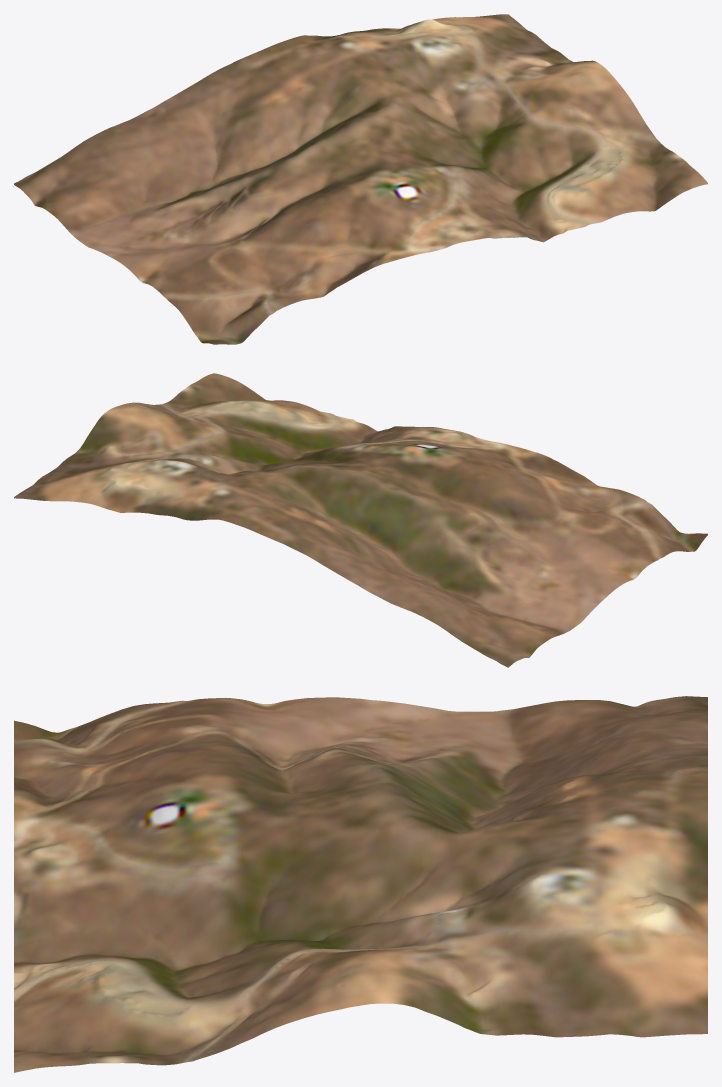
The model's file is terrain_r1_c3.glb.
The picture shows the model from 3 angles, top to bottom: view 1: azimuth 30°, elevation 25°; view 2: azimuth 150°, elevation 25°; view 3: azimuth 270°, elevation 25°; orthographic projection. The views are drawn at different scales.
Visible parts, largest first — view 1: terrain_r1_c3_lod0; view 2: terrain_r1_c3_lod0; view 3: terrain_r1_c3_lod0.
Part boxes in pixels (<box>): terrain_r1_c3_lod0: <box>14,14,707,344</box>; terrain_r1_c3_lod0: <box>14,373,707,667</box>; terrain_r1_c3_lod0: <box>14,696,707,1072</box>.
Size of the model in its own units: 1125 by 223 by 787.
1 material, 1 textured.
